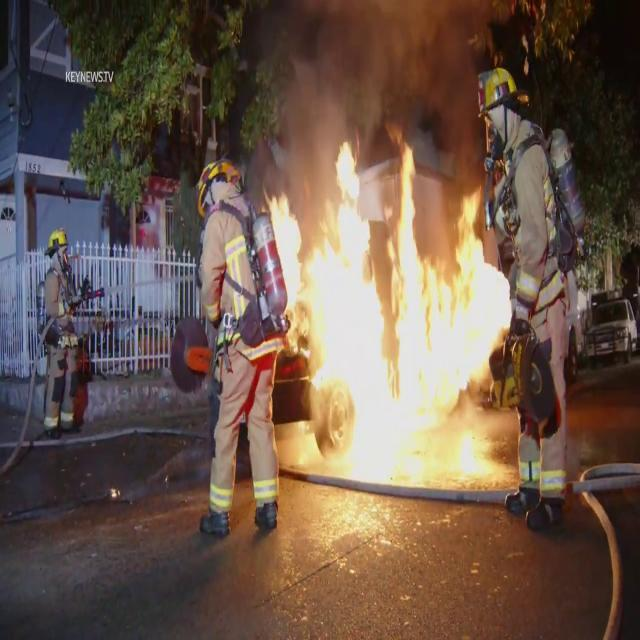Fire: (264, 126, 494, 456)
Smoke: (242, 0, 500, 162)
